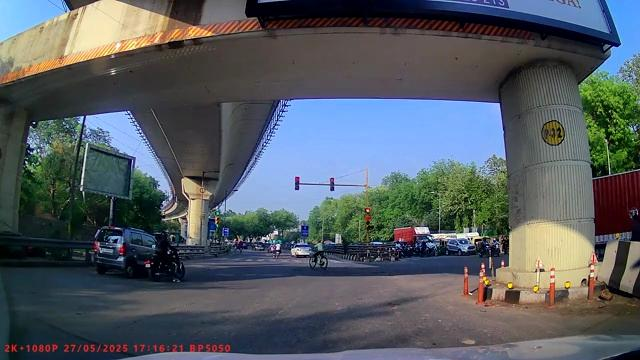motorcycle_with_helmet: (149, 229, 186, 282)
